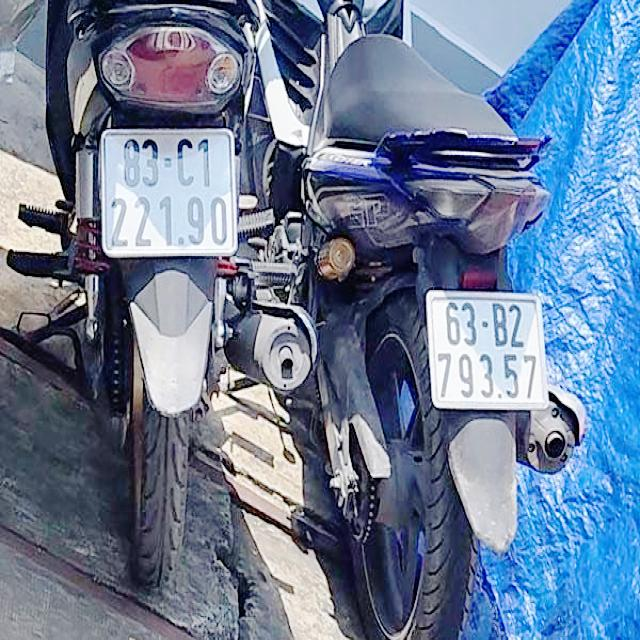license_plate: (105, 132, 238, 254), (432, 297, 546, 404)
